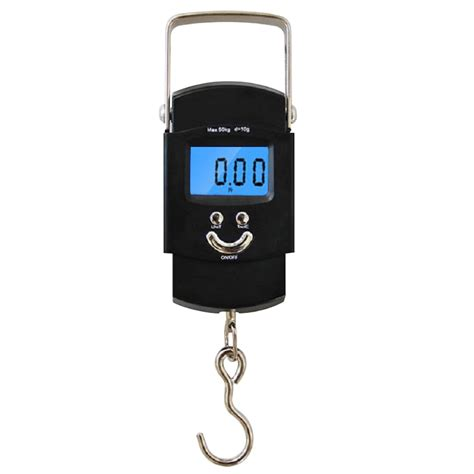Industrial Scale: (157, 9, 298, 471)
